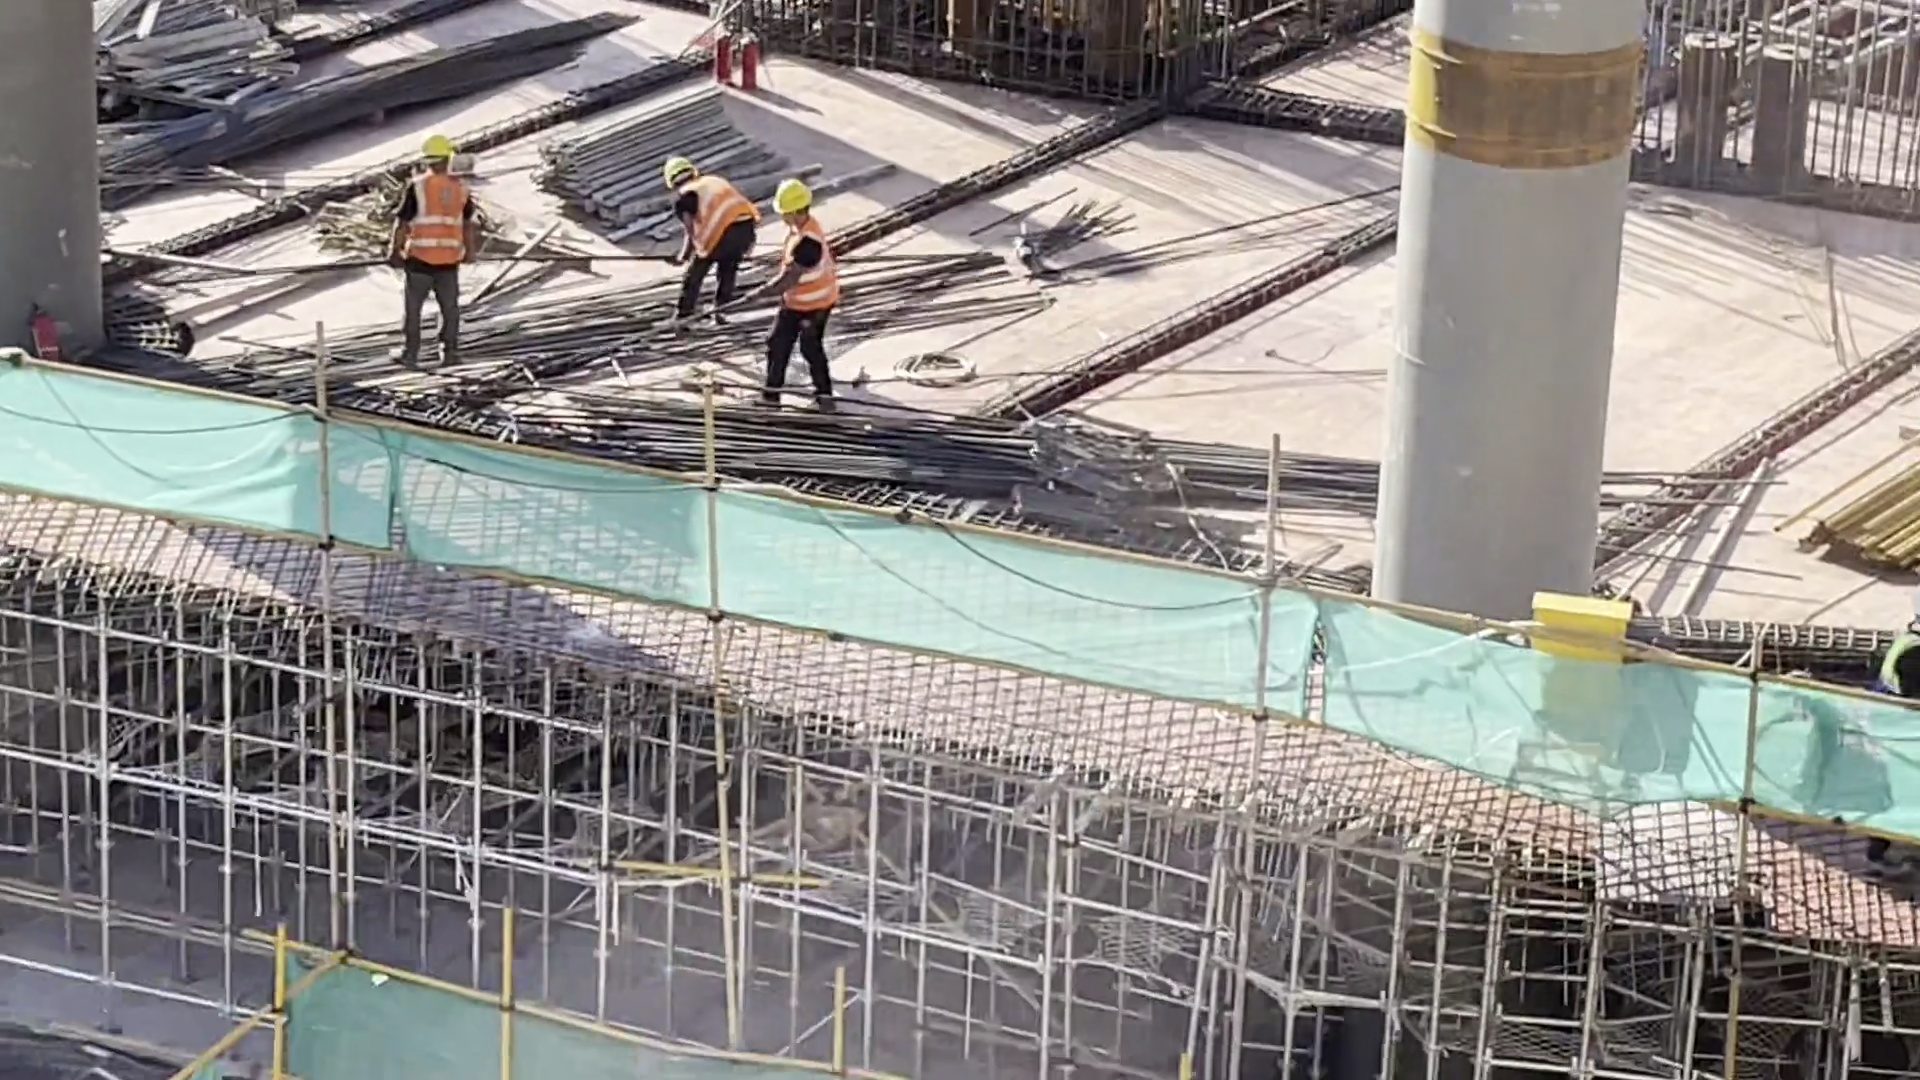ebox: (1528, 580, 1634, 765)
helmet: (774, 176, 820, 219), (660, 153, 700, 186), (426, 127, 449, 172)
person: (371, 127, 477, 316), (755, 175, 845, 393), (647, 163, 755, 311)
vest: (394, 167, 465, 265), (776, 235, 841, 319), (678, 187, 748, 239)
wood: (549, 74, 764, 258)
